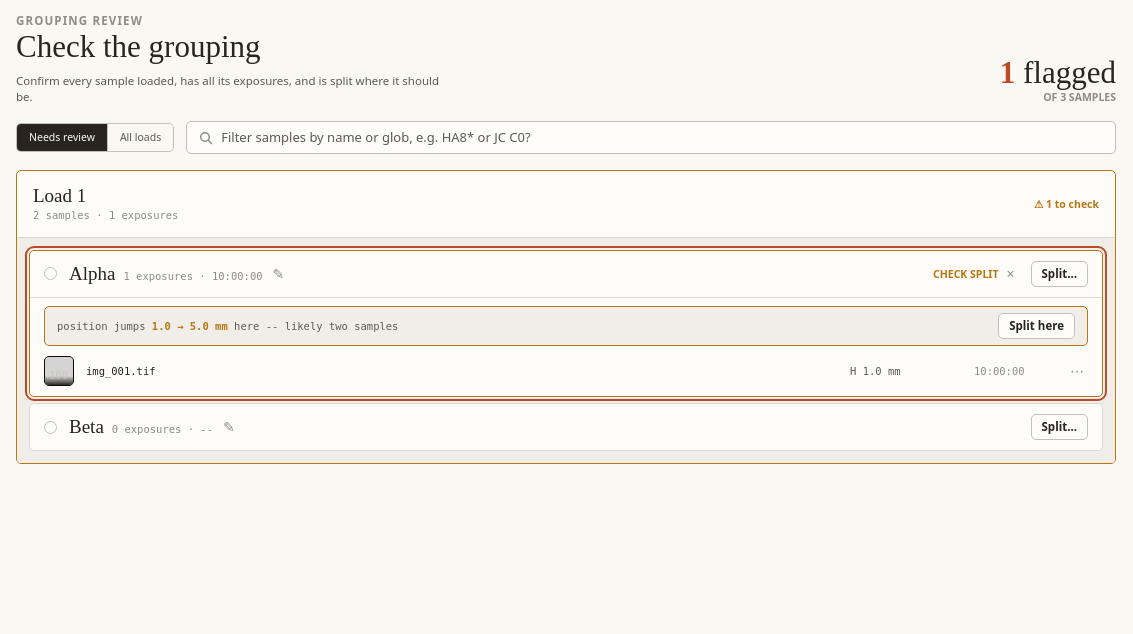
Test case: GroupingReviewPage — Move picker › activating Move on an exposure opens a Menu of same-load siblings (NOT the current owner)
The width and height of the screenshot is (1133, 634).
Switch to "All loads" so Load 1 (split flag) and Load 2 are both visible.
Click the button "All loads". click: x=141, y=138
box: [108,124,173,151]
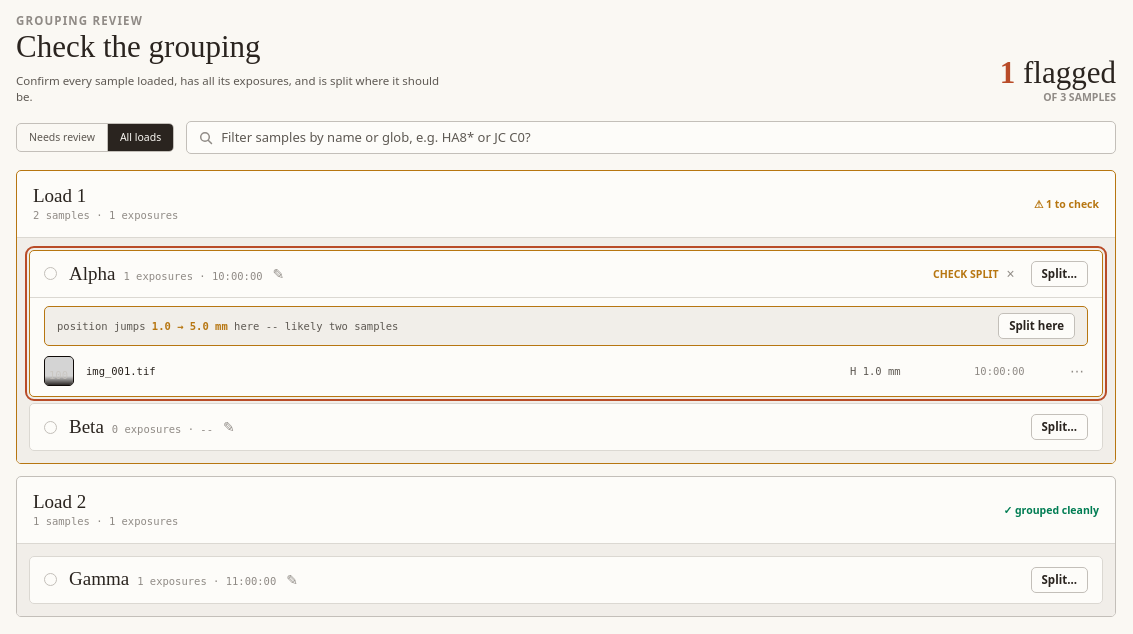
Click the button named "move to another sample". click: x=1077, y=371
box: [1066,360,1088,382]
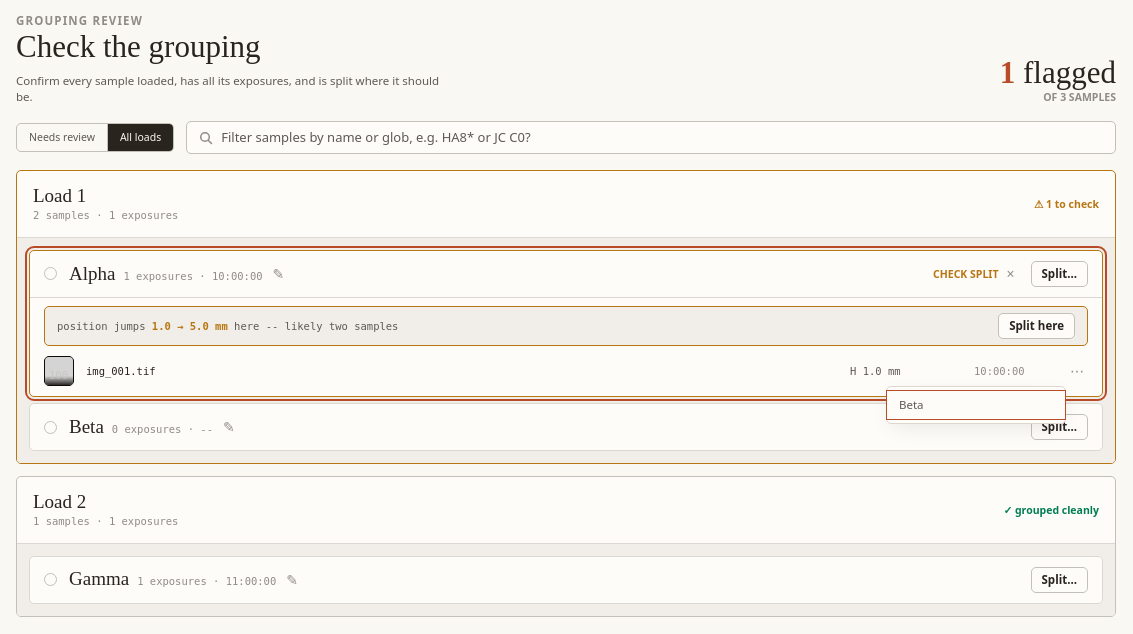
Now the menu is shown, box [886,386,1066,424]
Now the menu item "Beta" is shown, box [887,391,1065,419]
